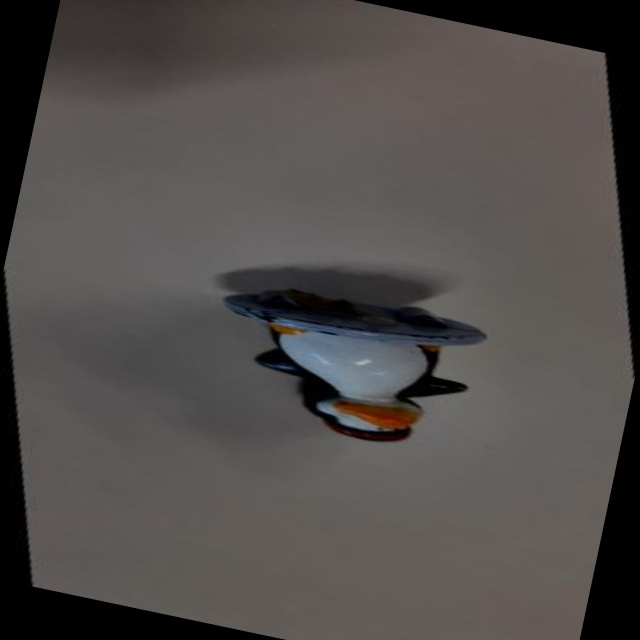Penguin: (205, 266, 517, 477)
